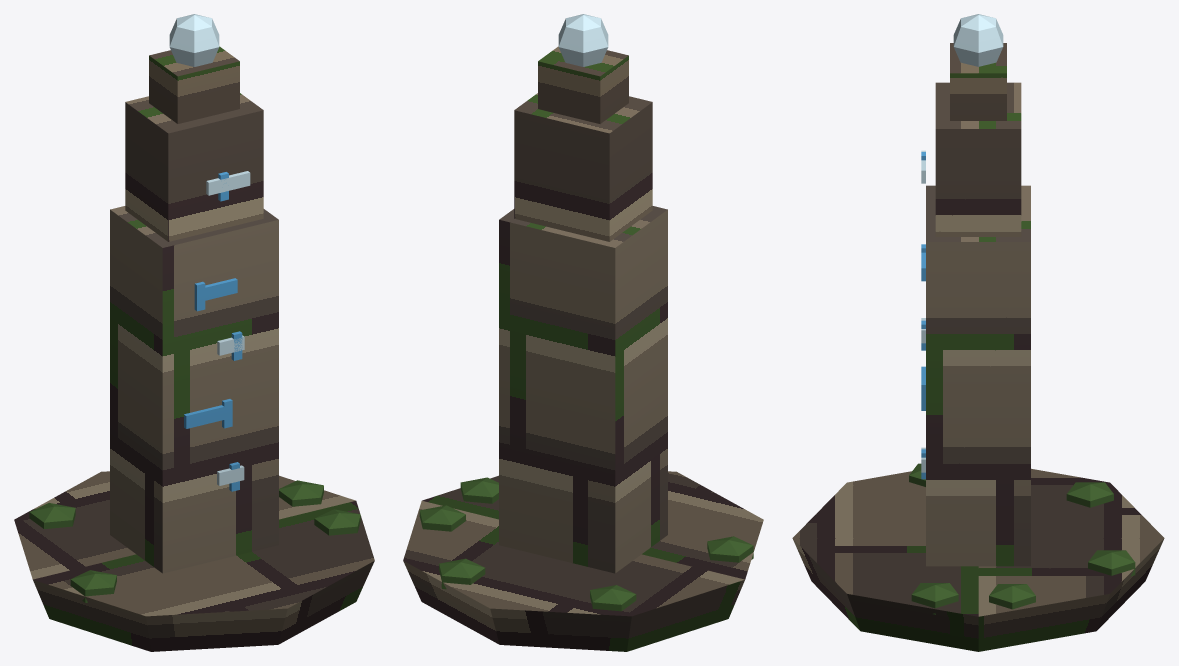
Rendered from waystone.glb.
3 views of the same model, side by side, from view 1: azimuth 30°, elevation 25°; view 2: azimuth 150°, elevation 25°; view 3: azimuth 270°, elevation 25° (orthographic).
Visible parts, largest first — view 1: waystone; view 2: waystone; view 3: waystone.
Boxes of the visible parts, x1,y1,x2,y2 form: waystone: (14,14,374,651); waystone: (403,14,763,651); waystone: (792,14,1164,651).
Bounding box in the file's own units: 1.56 × 2.62 × 1.56.
Materials: 3 (1 with a texture image).
